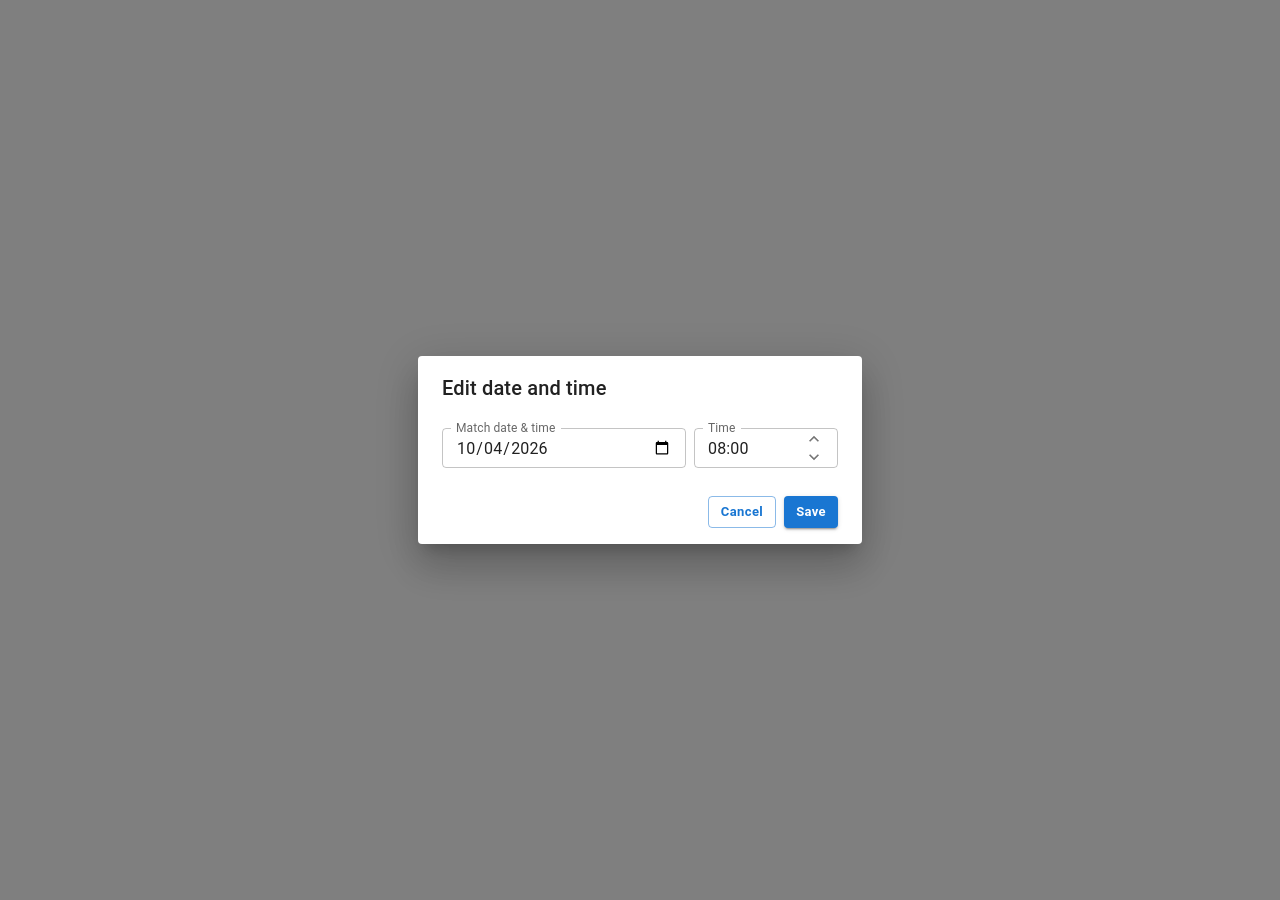
Test: MatchDateTimeDialog › shows any other failure in the dialog, which stays open
Step 1. Click the button "Save" → click(811, 512), box [784,496,838,528]
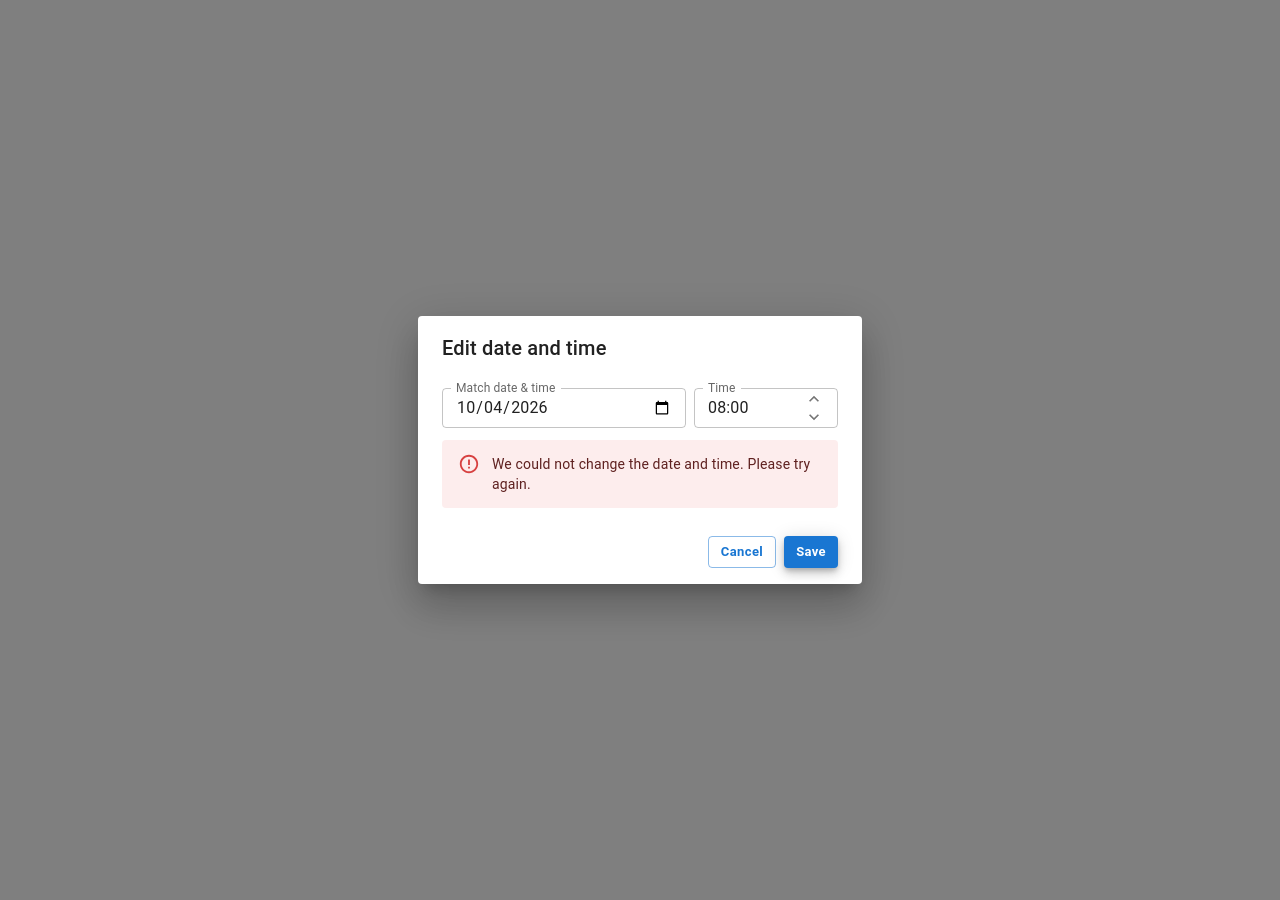
Result: the message reads "We could not change the date and time. Please try again." at [492,456,810,492]
